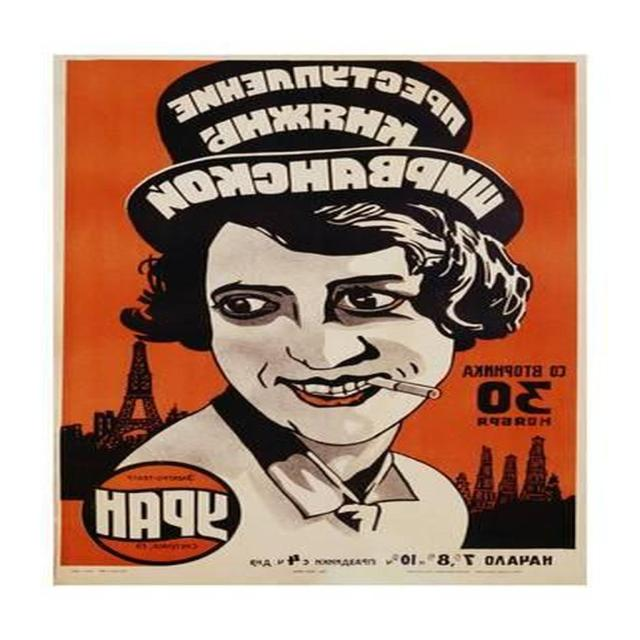smoking: (203, 207, 458, 446)
